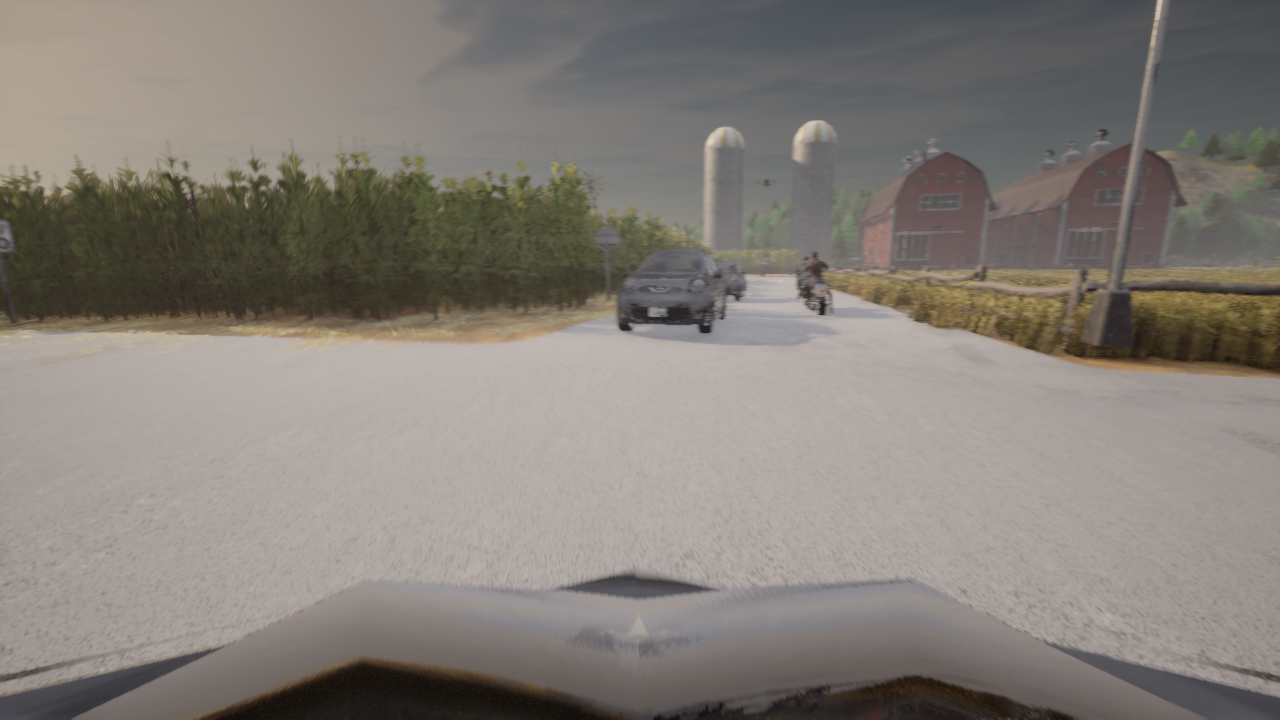cyclist: (0, 569, 1279, 719), (616, 249, 725, 334), (799, 267, 830, 315), (713, 259, 745, 301), (791, 271, 811, 309), (829, 264, 831, 266)
